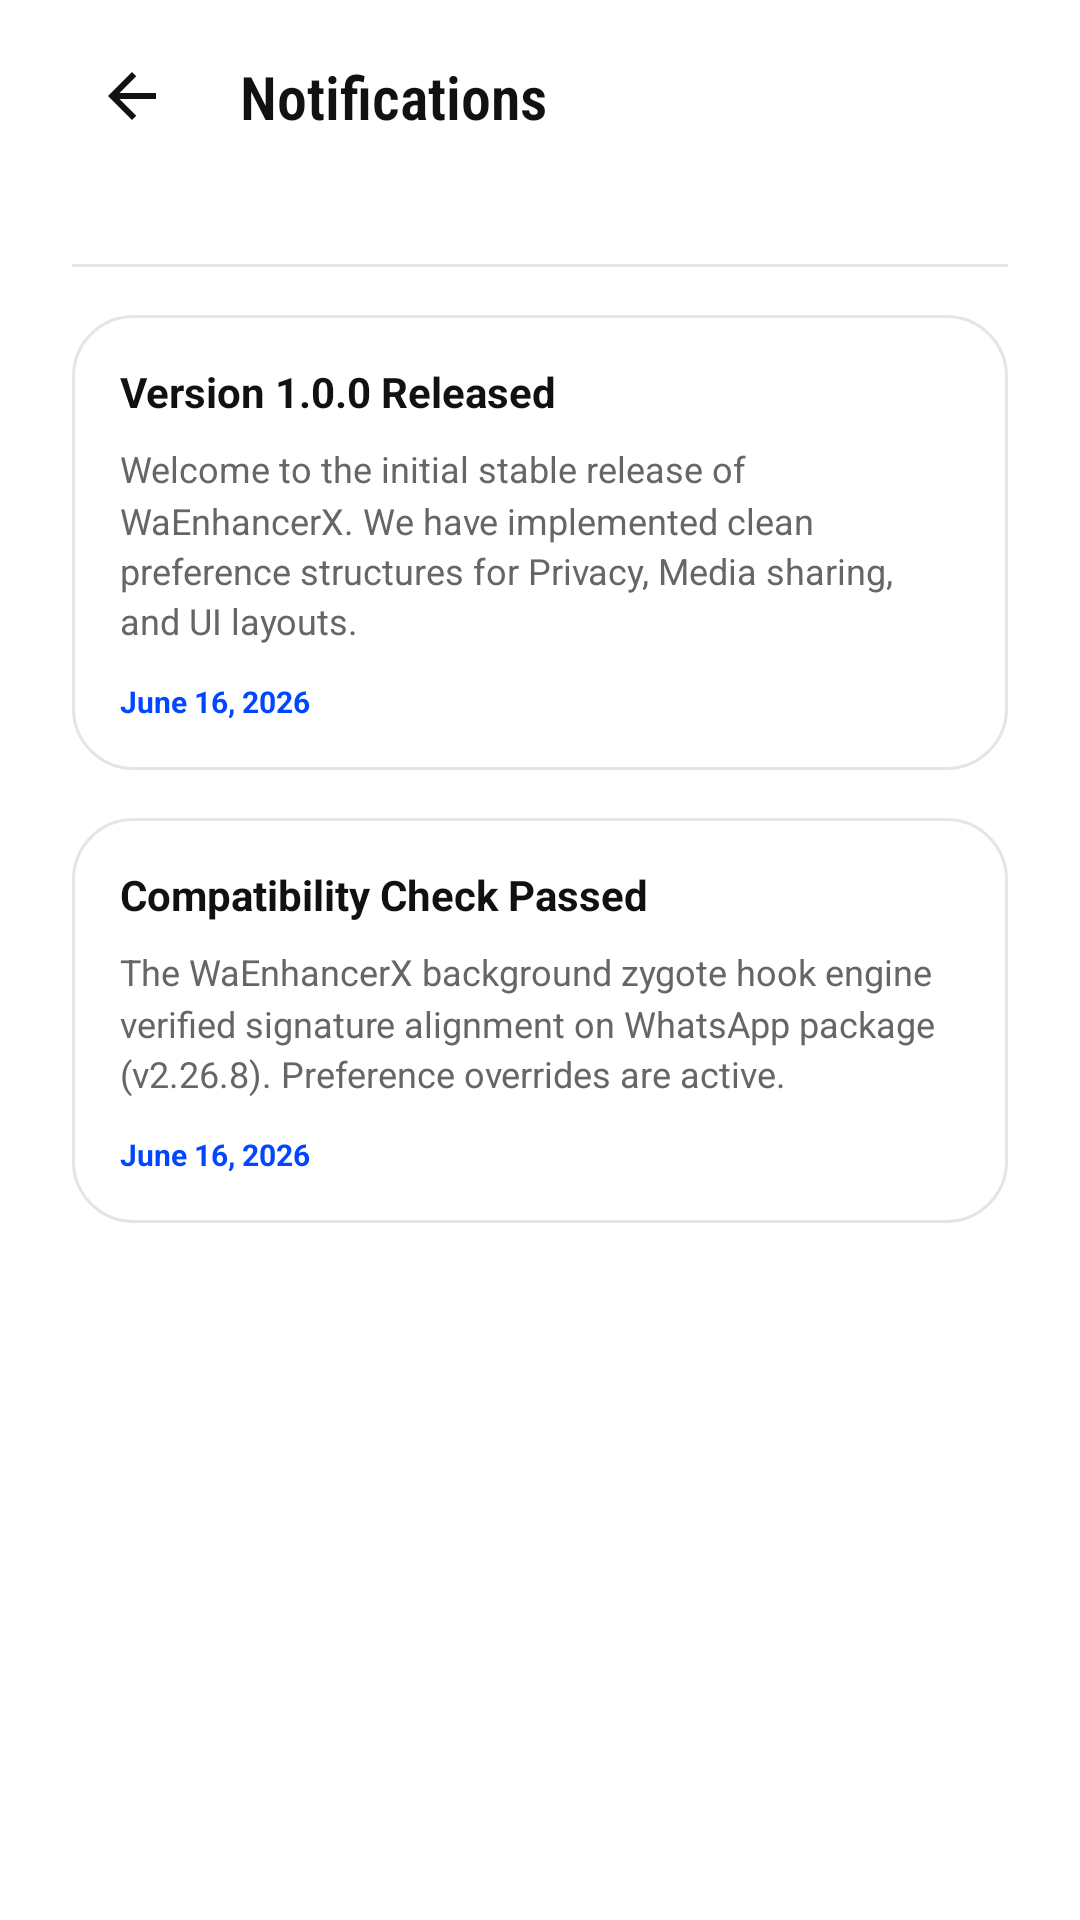

Icon bounding boxes for this 1080px x 1920px phone screenshot, format (left=x1, top=y1, right=x2, bottom=y2):
Back: (left=108, top=72, right=156, bottom=120)
